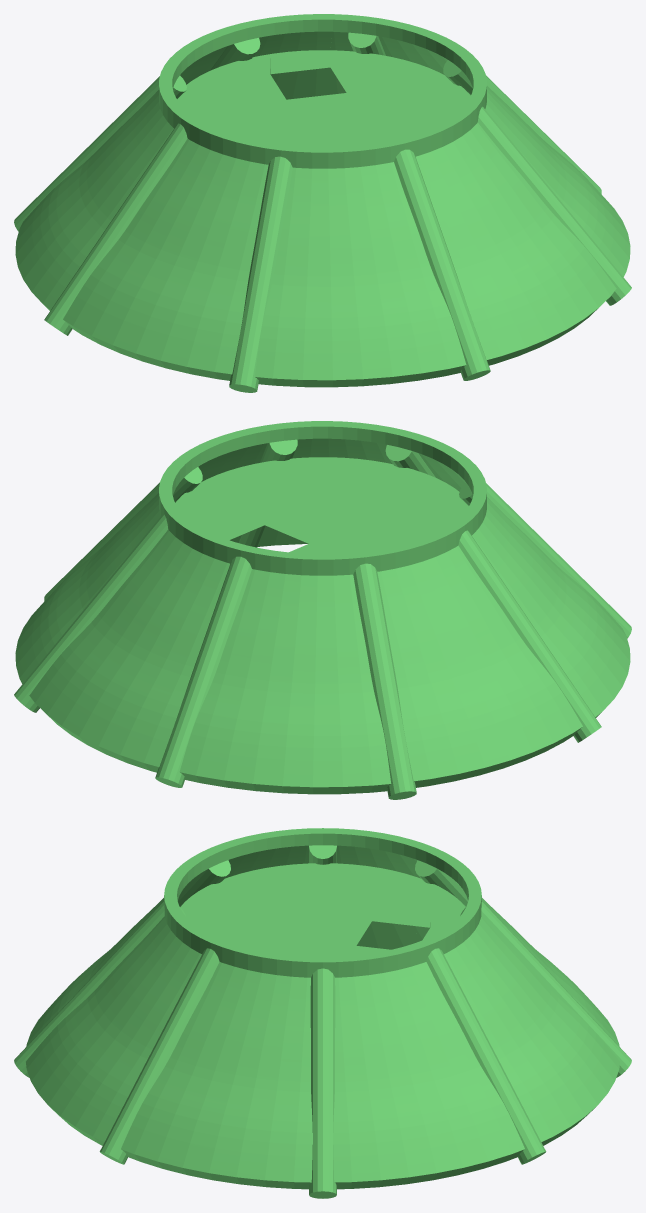
File: HutRoof.fbx
The picture shows the model from 3 angles, top to bottom: view 1: azimuth 30°, elevation 25°; view 2: azimuth 150°, elevation 25°; view 3: azimuth 270°, elevation 25°; orthographic projection. The views are drawn at different scales.
Parts seen in each view (by area): view 1: HutRoof; view 2: HutRoof; view 3: HutRoof.
Boxes of the visible parts, x1,y1,x2,y2 form: HutRoof: (14, 14, 631, 392); HutRoof: (14, 421, 631, 799); HutRoof: (14, 828, 631, 1198).
Size of the model in its own units: 718 by 233 by 718.
